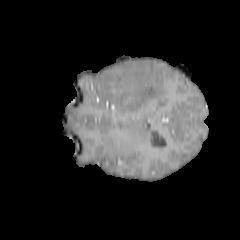glioma: (93, 60, 168, 113)
